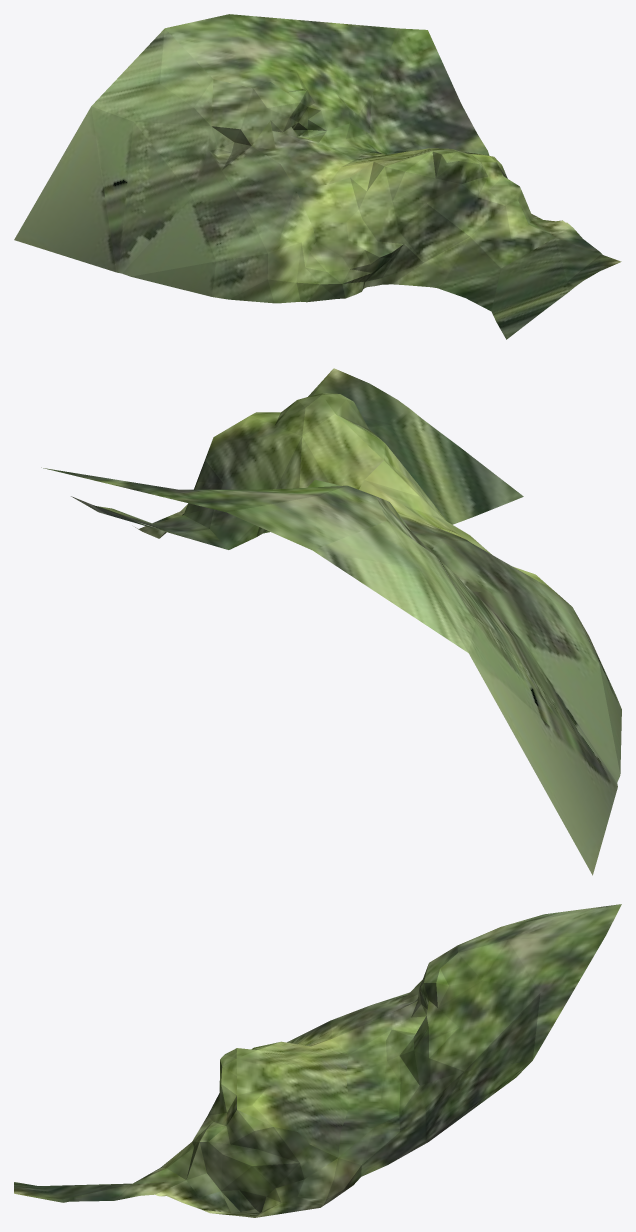
3 renders of one model, top to bottom at view 1: azimuth 30°, elevation 25°; view 2: azimuth 150°, elevation 25°; view 3: azimuth 270°, elevation 25°, orthographic. The views are drawn at different scales.
Bounding box in the file's own units: 19.43 × 8.24 × 20.68.
1 material, 1 textured.
